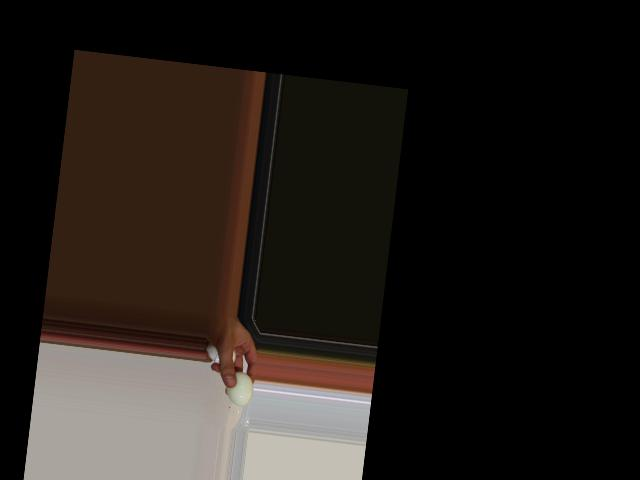egg: (223, 370, 255, 406)
